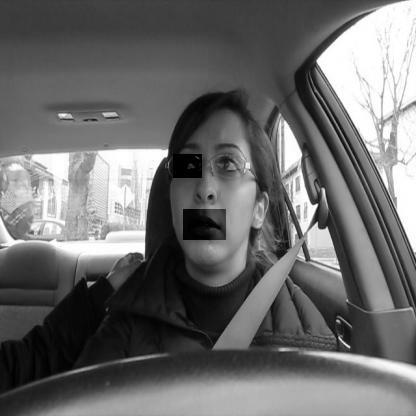seatbelt: (155, 86, 301, 350)
